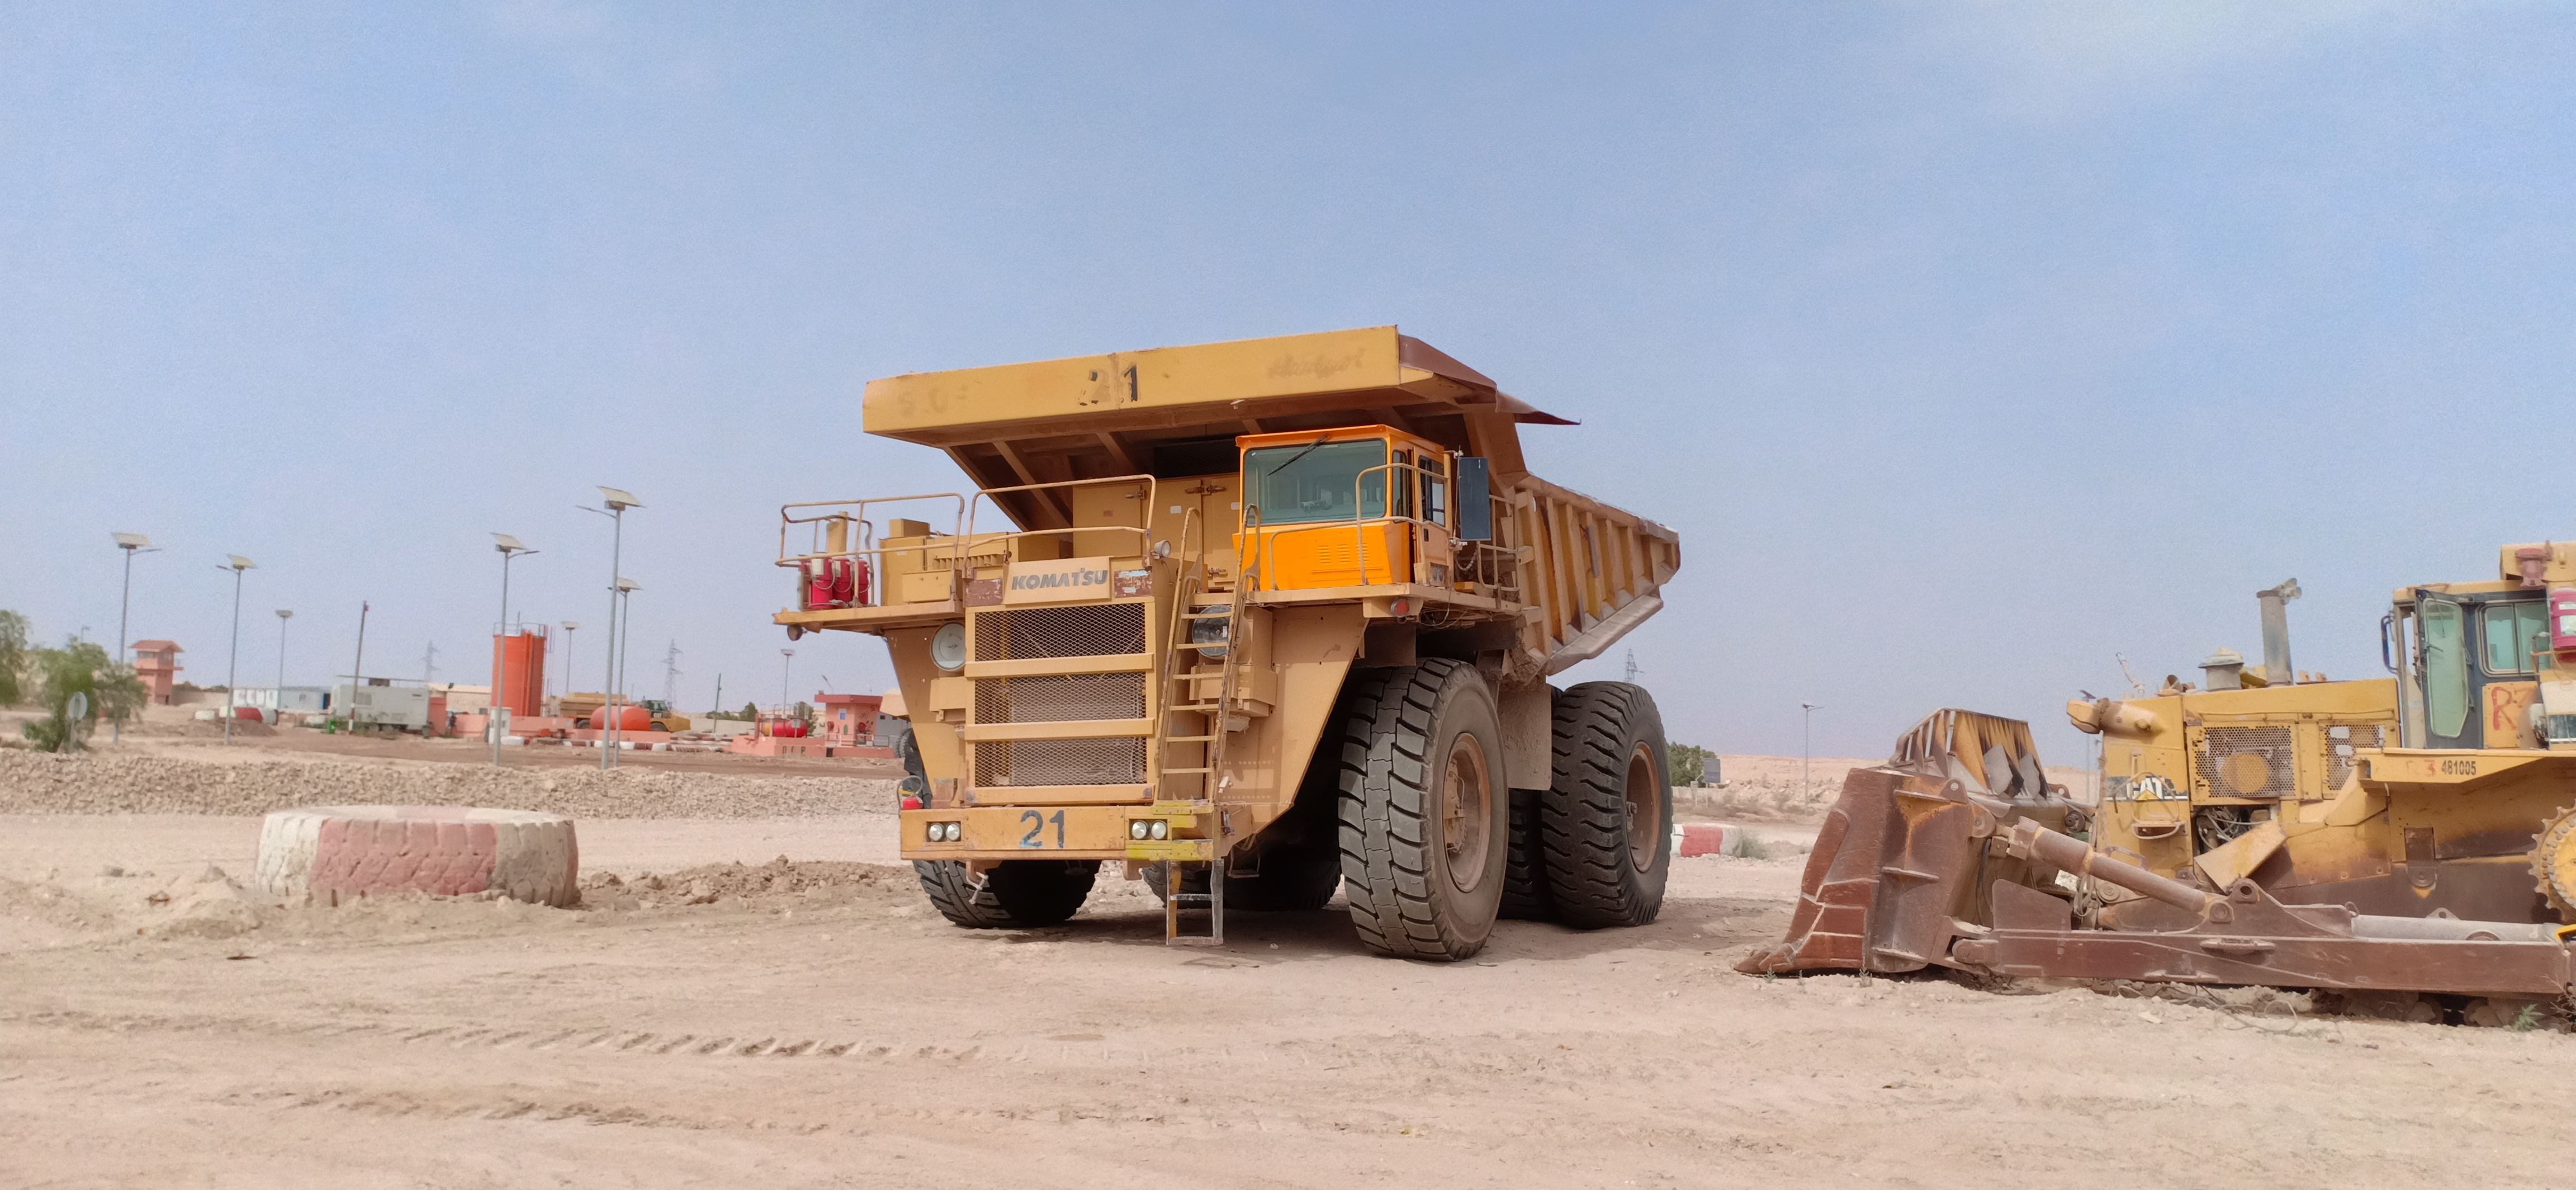bulldozer: (1750, 518, 2576, 1060)
camion: (769, 306, 1707, 986)
